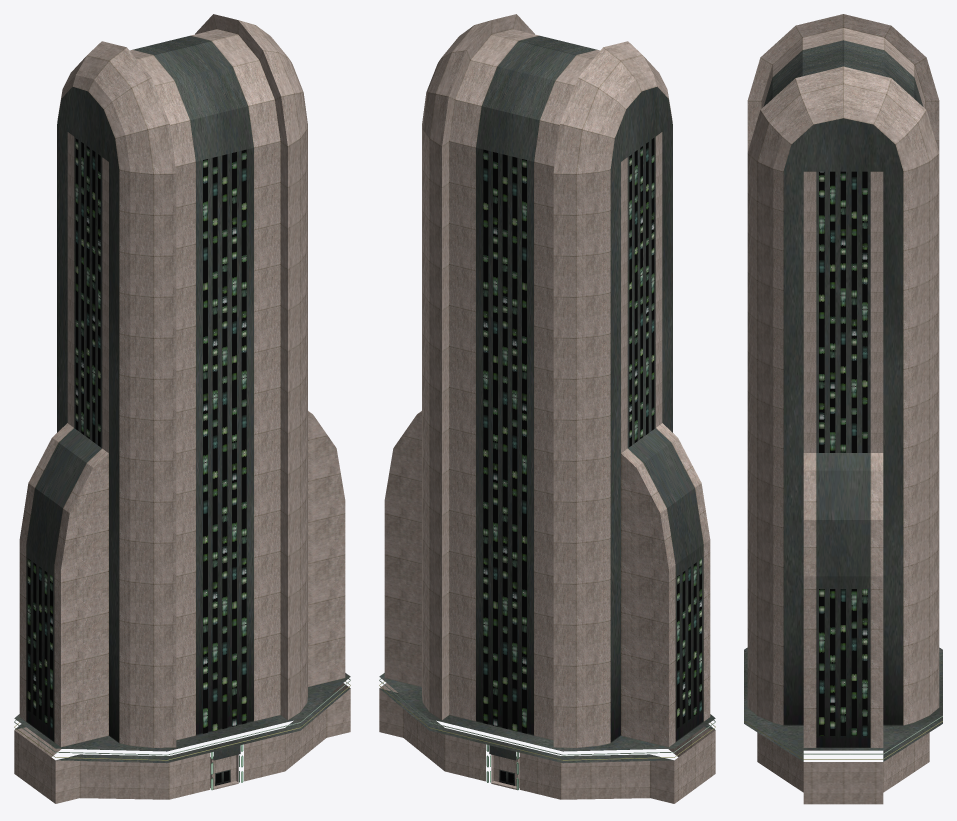
File: thm_corl_skyskraper_s04_l1.fbx
The picture shows the model from 3 angles, left to right: view 1: azimuth 30°, elevation 25°; view 2: azimuth 150°, elevation 25°; view 3: azimuth 270°, elevation 25°; orthographic projection. The views are drawn at different scales.
Visible parts, largest first — view 1: mesh_node; view 2: mesh_node; view 3: mesh_node.
Boxes of the visible parts, box(x1,y1,x2,y2) form: mesh_node: box(14, 14, 350, 803); mesh_node: box(379, 14, 715, 803); mesh_node: box(744, 14, 942, 804).
Bounding box in the file's own units: 60.95 × 142 × 36.8.
